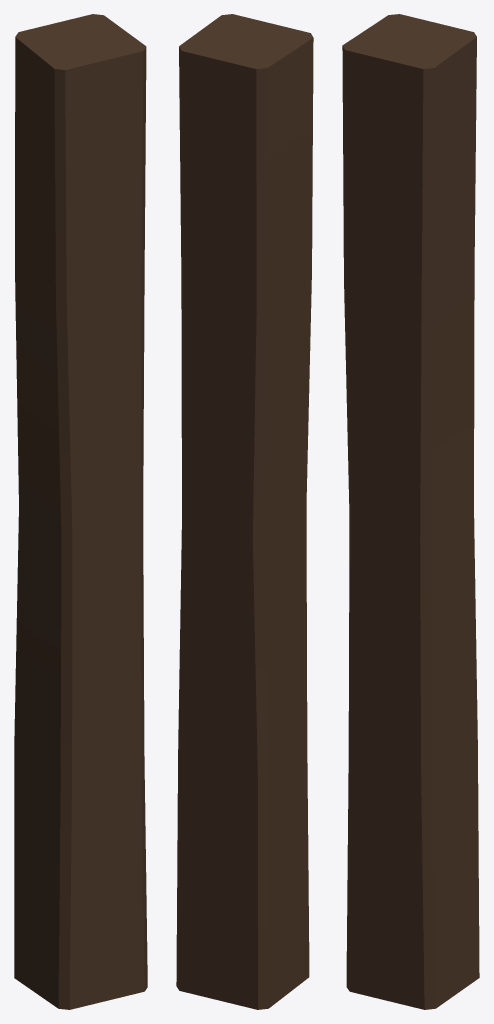
Rendered from WoodenPillarSmall.fbx.
3 views of the same model, side by side, from view 1: azimuth 30°, elevation 25°; view 2: azimuth 150°, elevation 25°; view 3: azimuth 330°, elevation 25° (orthographic).
Parts seen in each view (by area): view 1: Cube.067; view 2: Cube.067; view 3: Cube.067.
Boxes of the visible parts, x1=… form: Cube.067: x1=14, y1=14, x2=147, y2=1009; Cube.067: x1=176, y1=14, x2=313, y2=1009; Cube.067: x1=342, y1=14, x2=479, y2=1009.
Size of the model in its own units: 0.2629 by 2.5 by 0.2435.
